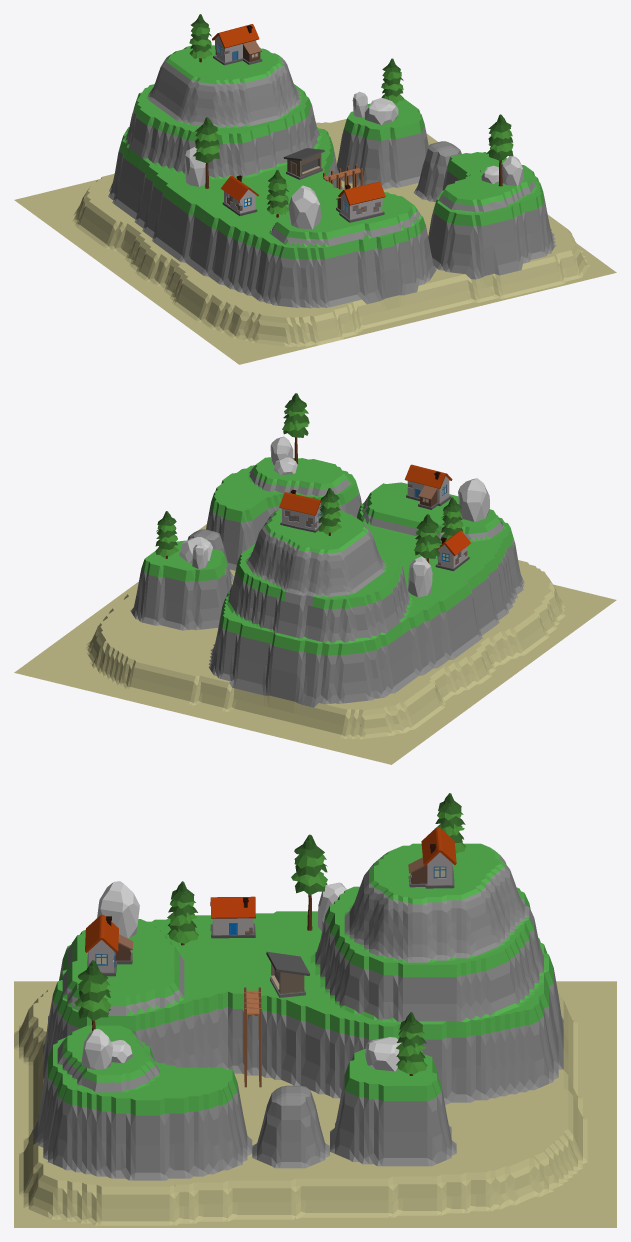
Rendered from EastIsland.fbx.
3 views of the same model, one above another, from view 1: azimuth 30°, elevation 25°; view 2: azimuth 150°, elevation 25°; view 3: azimuth 270°, elevation 25° (orthographic). The views are drawn at different scales.
Visible parts, largest first — view 1: Plane.001; view 2: Plane.001; view 3: Plane.001.
Part boxes in pixels (<box>): Plane.001: <box>14,14,616,364</box>; Plane.001: <box>14,393,616,764</box>; Plane.001: <box>14,793,616,1227</box>.
Size of the model in its own units: 9375 by 4774 by 9688.
